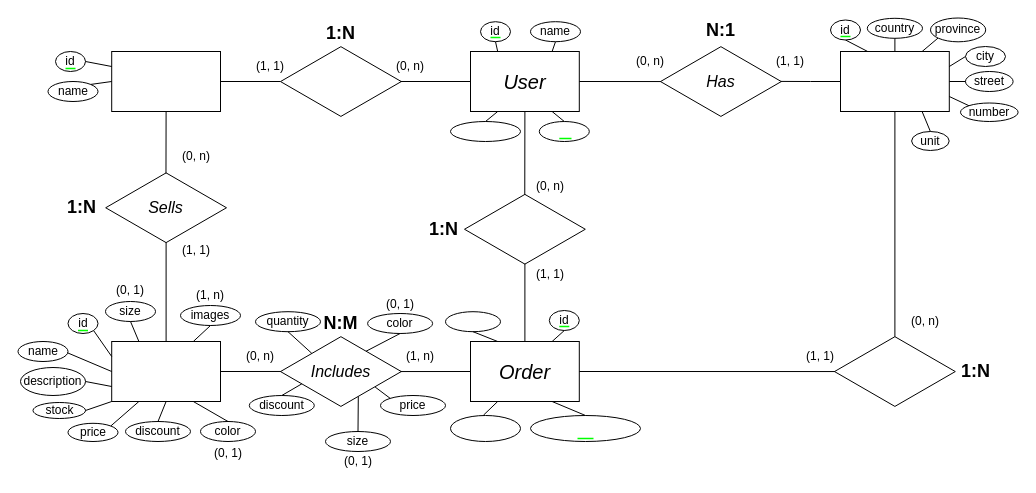
This 1036x493 diagram has some shape labels left out. Each missing label, with the centre of its shape:
"Address" belongs at pixel 894 81.
"Creates" belongs at pixel 340 81.
"email" belongs at pixel 563 131.
"invoice_number" belongs at pixel 585 428.
"Makes" belongs at pixel 524 229.
"password" belongs at pixel 485 131.
"Product" belongs at pixel 165 371.
"ShipsTo" belongs at pixel 894 371.
"status" belongs at pixel 472 321.
"Store" belongs at pixel 165 81.
"total_price" belongs at pixel 485 428.
